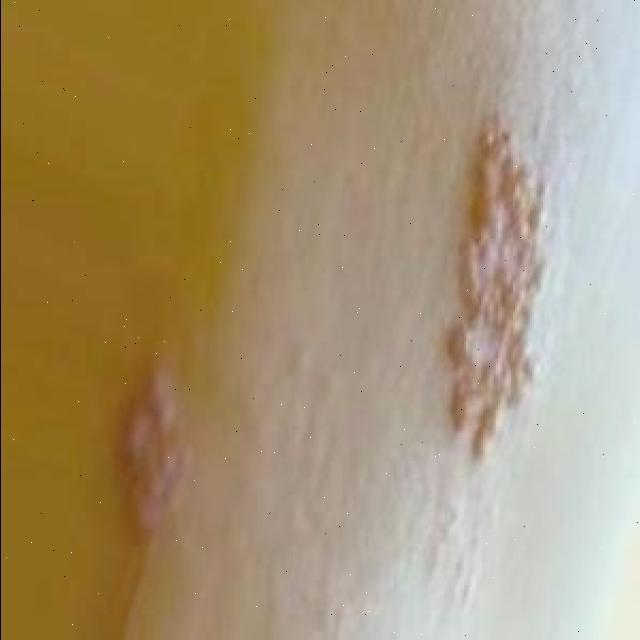Shingles: (446, 110, 548, 455), (118, 352, 190, 546)
